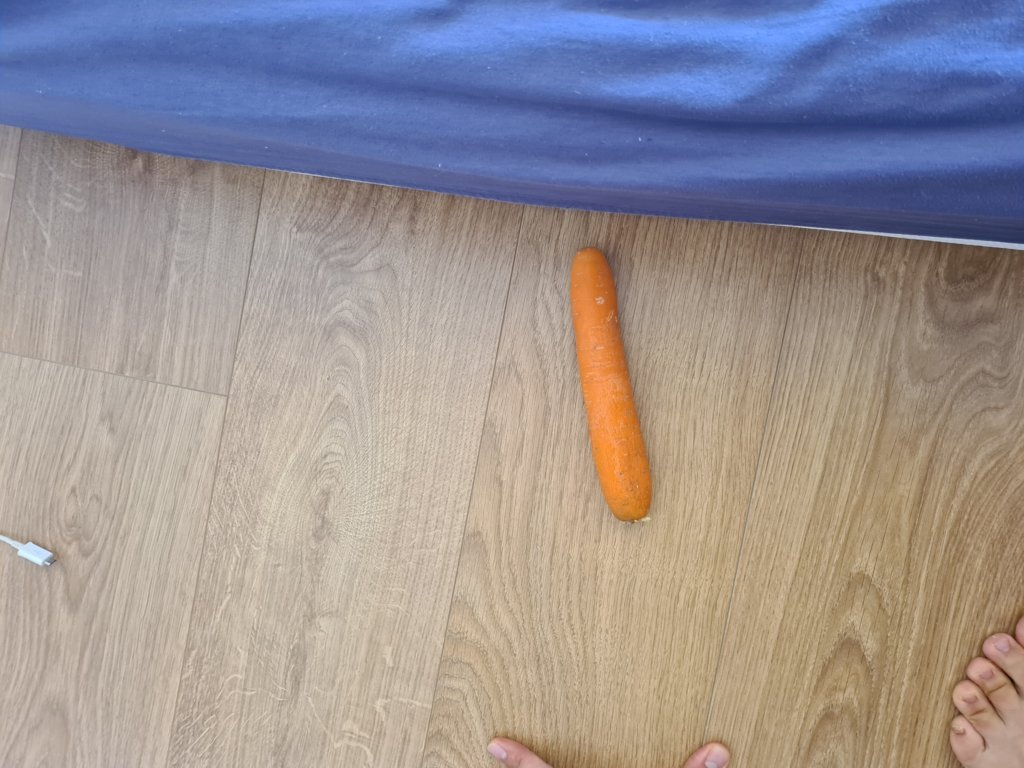carrot: (560, 247, 658, 525)
